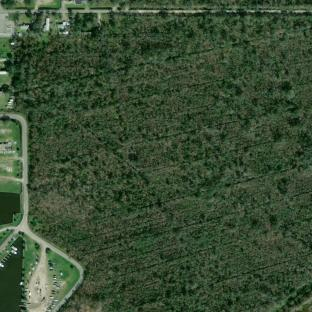Floresta: (12, 13, 312, 312)
